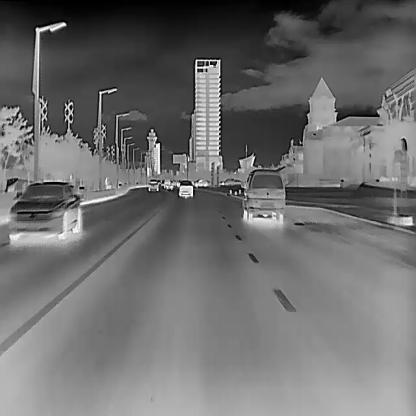car: (8, 181, 81, 240), (241, 167, 285, 221), (177, 178, 192, 197), (192, 176, 208, 188), (147, 178, 158, 192)
